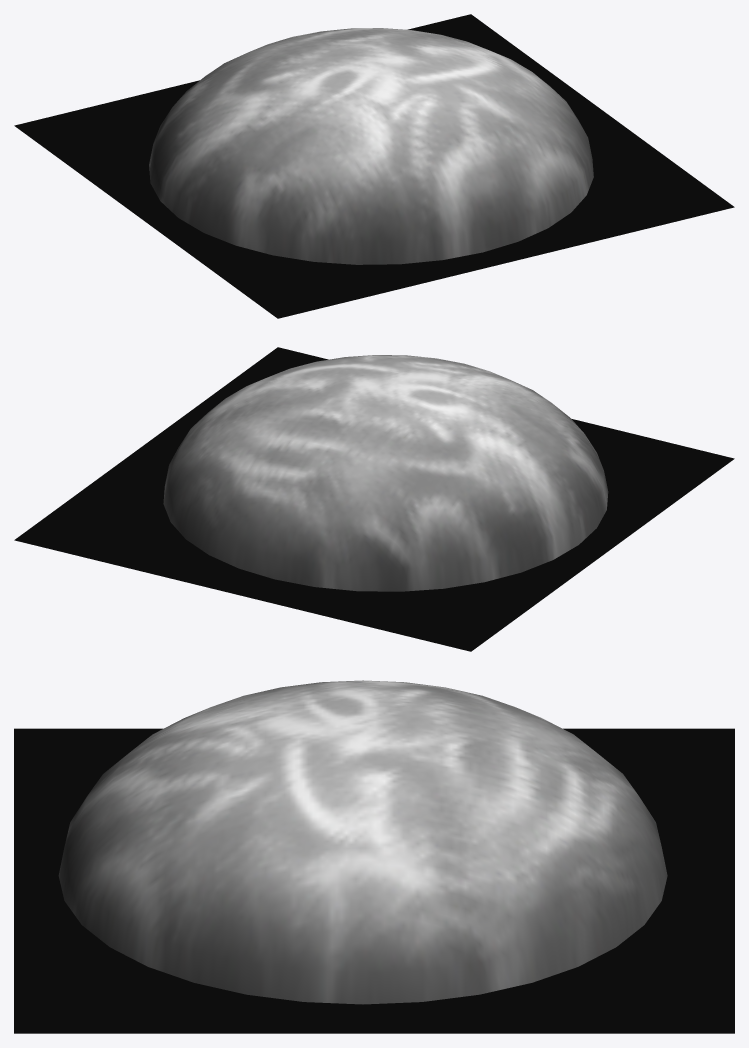
File: P_Dome.FBX
3 renders of one model, top to bottom at view 1: azimuth 30°, elevation 25°; view 2: azimuth 150°, elevation 25°; view 3: azimuth 270°, elevation 25°, orthographic. The views are drawn at different scales.
Parts seen in each view (by area): view 1: P_Dome_MF, P_Dome_Shadow; view 2: P_Dome_MF, P_Dome_Shadow; view 3: P_Dome_MF, P_Dome_Shadow.
Part boxes in pixels (box(x1,y1,x2,y2)): P_Dome_MF: box(149, 28, 593, 264); P_Dome_Shadow: box(14, 14, 734, 318); P_Dome_MF: box(163, 355, 608, 591); P_Dome_Shadow: box(14, 347, 734, 651); P_Dome_MF: box(58, 680, 667, 1004); P_Dome_Shadow: box(14, 728, 734, 1033).
Bounding box in the file's own units: 15.73 × 3.57 × 15.73.
